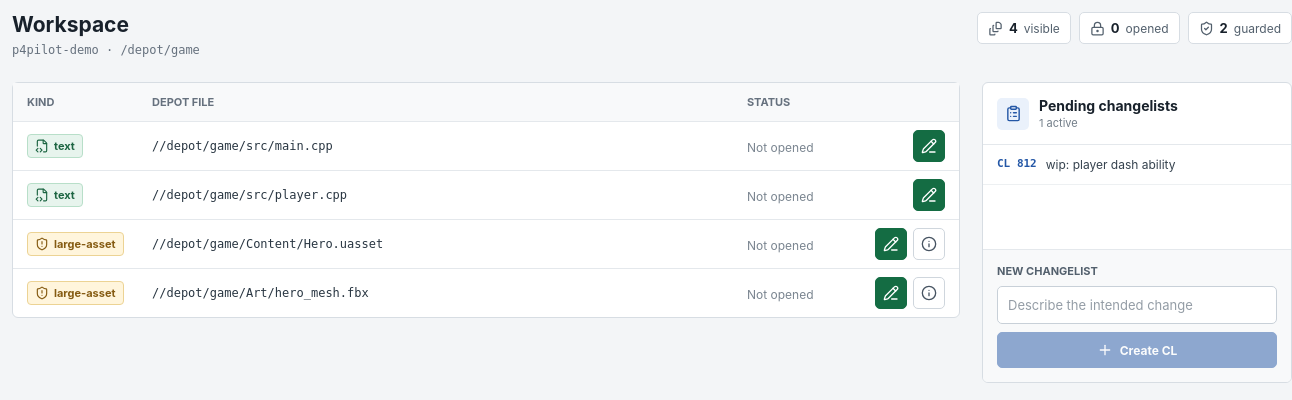
Scenario: Dashboard › reverts an opened file
Expected: the text "//depot/game/src/main.cpp" is shown, x1=138 y1=122 x2=733 y2=170
Step 1. Click the button named "Smart checkout" in the row of "//depot/game/src/main.cpp" → (929, 146), box x1=913 y1=130 x2=945 y2=162
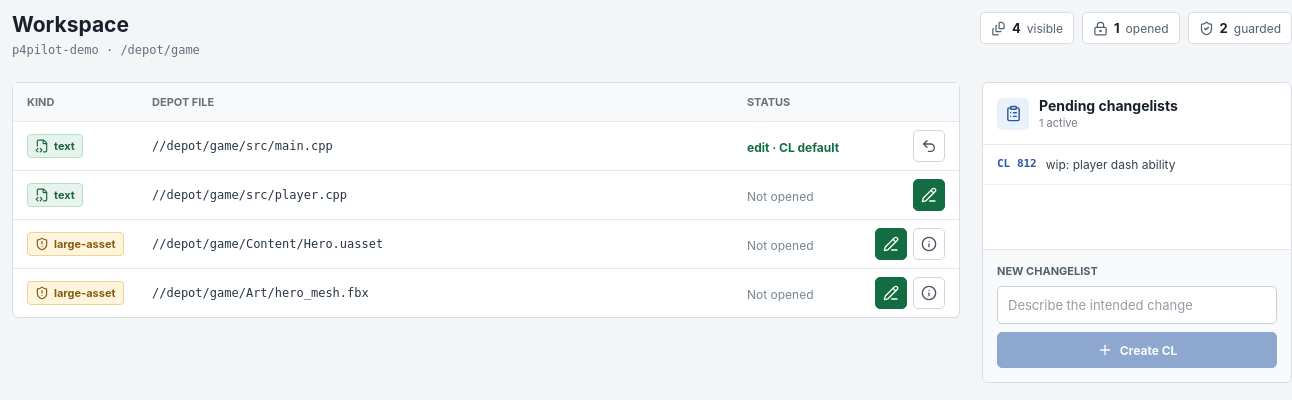
Expected: the button named "Revert" is shown
Step 2. Click the button named "Revert" → (929, 146), box x1=913 y1=130 x2=945 y2=162
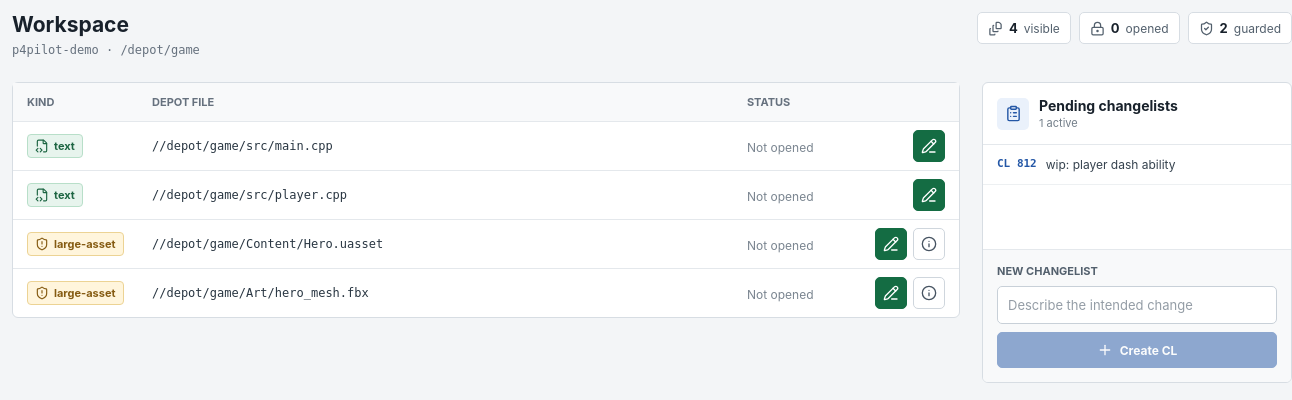
Expected: the button named "Smart checkout" in the row of "//depot/game/src/main.cpp" is shown, x1=913 y1=130 x2=945 y2=162
Expected: the text "Not opened" in the row of "//depot/game/src/main.cpp" is shown, x1=747 y1=140 x2=814 y2=155
